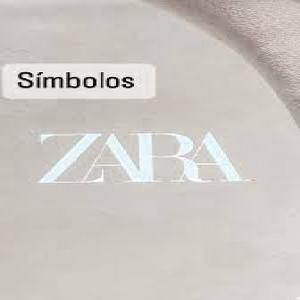zara: (28, 128, 253, 187)
